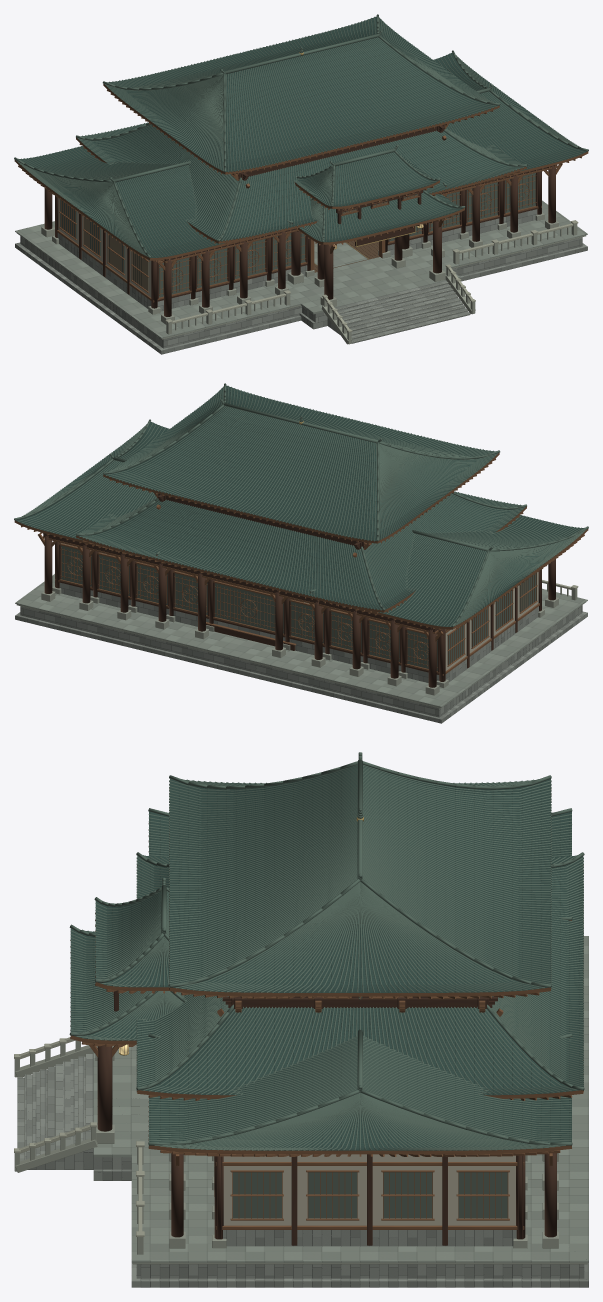
Rendered from main_sect_hall.glb.
3 views of the same model, one above another, from view 1: azimuth 30°, elevation 25°; view 2: azimuth 150°, elevation 25°; view 3: azimuth 270°, elevation 25° (orthographic). The views are drawn at different scales.
Visible parts, largest first — view 1: Hall_JadeTile, Hall_TileEdge, Hall_Ashlar, Hall_Paving, Hall_Timber, Hall_CarvedWood, Hall_Window, Hall_ArchStone, Hall_Coping, Hall_Plaster; view 2: Hall_JadeTile, Hall_TileEdge, Hall_Timber, Hall_CarvedWood, Hall_Ashlar, Hall_Paving, Hall_Window, Hall_ArchStone, Hall_Plaster; view 3: Hall_TileEdge, Hall_JadeTile, Hall_Paving, Hall_Ashlar, Hall_CarvedWood, Hall_Timber, Hall_Window, Hall_Plaster, Hall_ArchStone, Hall_Coping.
Boxes of the visible parts, x1,y1,x2,y2 form: Hall_JadeTile: (18,16,587,257); Hall_TileEdge: (14,14,588,258); Hall_Ashlar: (15,209,587,354); Hall_Paving: (15,200,587,338); Hall_Timber: (44,124,557,316); Hall_CarvedWood: (14,83,588,302); Hall_Window: (60,173,535,297); Hall_ArchStone: (17,212,586,344); Hall_Coping: (165,220,578,332); Hall_Plaster: (58,198,151,297); Hall_JadeTile: (15,385,584,626); Hall_TileEdge: (14,383,588,627); Hall_Timber: (43,493,555,687); Hall_CarvedWood: (14,452,588,675); Hall_Ashlar: (15,553,587,723); Hall_Paving: (15,574,587,707); Hall_Window: (61,545,536,670); Hall_ArchStone: (16,584,585,708); Hall_Plaster: (61,543,538,670); Hall_TileEdge: (69,752,584,1150); Hall_JadeTile: (70,765,583,1150); Hall_Paving: (93,936,588,1262); Hall_Ashlar: (17,1054,588,1287); Hall_CarvedWood: (70,789,583,1229); Hall_Timber: (97,990,556,1245); Hall_Window: (233,1172,507,1218); Hall_Plaster: (223,1154,515,1225); Hall_ArchStone: (14,1040,587,1264); Hall_Coping: (14,1037,144,1236).
Size of the model in its own units: 41.68 by 18.31 by 30.18.
15 materials, 10 textured.
